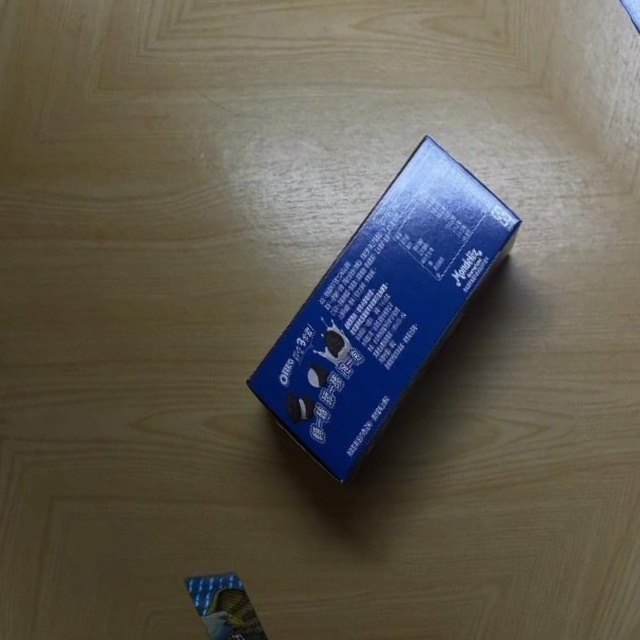Oreo: (199, 121, 582, 492)
